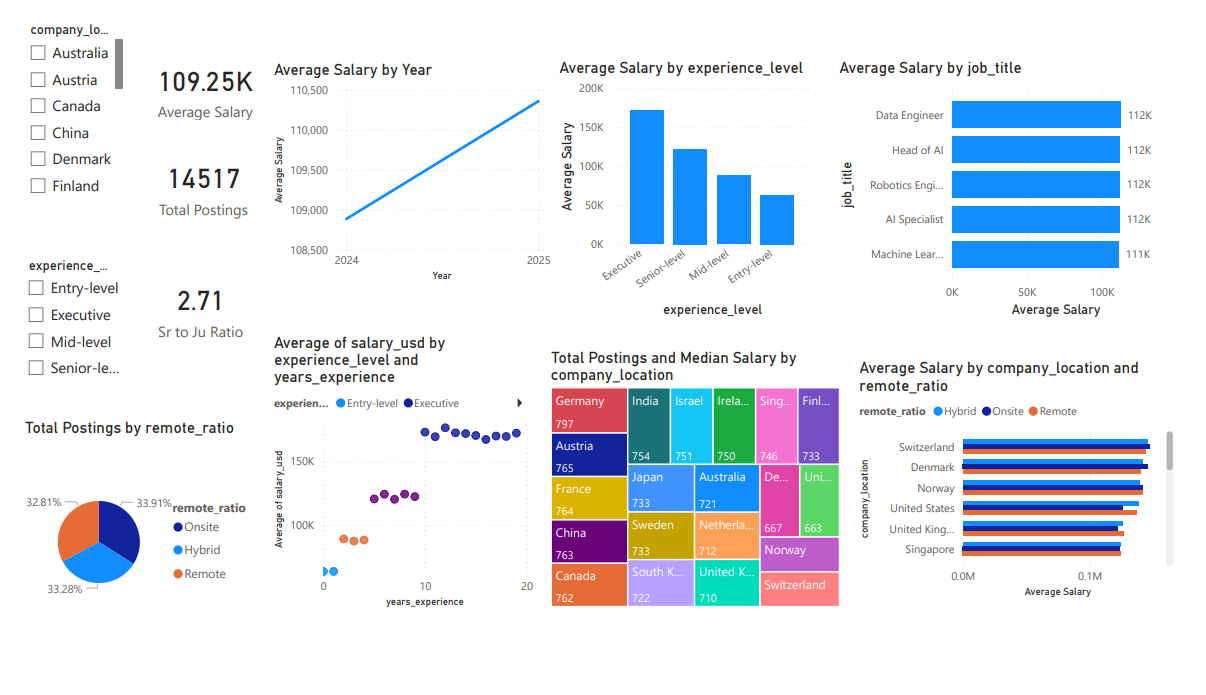

Layout of this report page (visuals, bound fields, positions):
{"tool":"powerbi","page":{"name":"Page 1","canvas":[1280,720],"ordinal":0},"visuals":[{"type":"treemap","fields":{"Group":["cleaned_dataset.company_location"],"Values":["cleaned_dataset.Total Postings"]},"box":[579,361,325,287],"z":0},{"type":"clusteredColumnChart","fields":{"Category":["cleaned_dataset.experience_level"],"Y":["cleaned_dataset.Average Salary"]},"box":[588,44,287,287],"z":1000},{"type":"barChart","fields":{"Category":["cleaned_dataset.job_title"],"Y":["cleaned_dataset.Average Salary"]},"box":[894,44,375,287],"z":2000},{"type":"clusteredBarChart","fields":{"Category":["cleaned_dataset.company_location"],"Y":["cleaned_dataset.Average Salary"],"Series":["cleaned_dataset.remote_ratio"]},"box":[916,372,353,265],"z":3000},{"type":"actionButton","box":[0,0,100,40],"z":4000},{"type":"card","fields":{"Values":["cleaned_dataset.Average Salary"]},"box":[145,40,122,76],"z":5000},{"type":"card","fields":{"Values":["cleaned_dataset.Total Postings"]},"box":[148,138,112,93],"z":6000},{"type":"card","fields":{"Values":["cleaned_dataset.Sr to Ju Ratio"]},"box":[145,263,112,109],"z":7000},{"type":"lineChart","fields":{"Y":["cleaned_dataset.Average Salary"],"Category":["cleaned_dataset.posting_date.Variation.Date Hierarchy.Year"]},"box":[276,46,312,246],"z":8000},{"type":"scatterChart","fields":{"Y":["Avg(cleaned_dataset.salary_usd)"],"X":["cleaned_dataset.years_experience"],"Series":["cleaned_dataset.experience_level"]},"box":[276,344,293,304],"z":9000},{"type":"pieChart","fields":{"Category":["cleaned_dataset.remote_ratio"],"Y":["cleaned_dataset.Total Postings"]},"box":[4,437,256,252],"z":10000},{"type":"slicer","fields":{"Values":["cleaned_dataset.company_location"]},"box":[2,0,119,206],"z":11000},{"type":"slicer","fields":{"Values":["cleaned_dataset.experience_level"]},"box":[0,257,123,147],"z":12000}]}

Visuals, with their boxes in screenshot pixels (x1, y1, x2, y2), scaled from the page's 1280x720 canvas onto the 1206x695 screenshot:
treemap - cleaned_dataset.company_location x cleaned_dataset.Total Postings: pyautogui.locateOnScreen(546, 348, 852, 626)
clusteredColumnChart - cleaned_dataset.experience_level x cleaned_dataset.Average Salary: pyautogui.locateOnScreen(554, 42, 824, 320)
barChart - cleaned_dataset.job_title x cleaned_dataset.Average Salary: pyautogui.locateOnScreen(842, 42, 1196, 320)
clusteredBarChart - cleaned_dataset.company_location x cleaned_dataset.Average Salary: pyautogui.locateOnScreen(863, 359, 1196, 615)
actionButton: pyautogui.locateOnScreen(0, 0, 94, 39)
card - cleaned_dataset.Average Salary: pyautogui.locateOnScreen(137, 39, 252, 112)
card - cleaned_dataset.Total Postings: pyautogui.locateOnScreen(139, 133, 245, 223)
card - cleaned_dataset.Sr to Ju Ratio: pyautogui.locateOnScreen(137, 254, 242, 359)
lineChart - cleaned_dataset.Average Salary x cleaned_dataset.posting_date.Variation.Date Hierarchy.Year: pyautogui.locateOnScreen(260, 44, 554, 282)
scatterChart - Avg(cleaned_dataset.salary_usd) x cleaned_dataset.years_experience: pyautogui.locateOnScreen(260, 332, 536, 626)
pieChart - cleaned_dataset.remote_ratio x cleaned_dataset.Total Postings: pyautogui.locateOnScreen(4, 422, 245, 665)
slicer - cleaned_dataset.company_location: pyautogui.locateOnScreen(2, 0, 114, 199)
slicer - cleaned_dataset.experience_level: pyautogui.locateOnScreen(0, 248, 116, 390)
